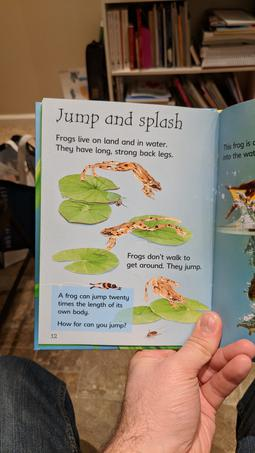text block: (54, 99, 190, 135), (53, 286, 134, 335), (46, 132, 177, 161), (122, 247, 206, 273), (214, 130, 255, 163)
